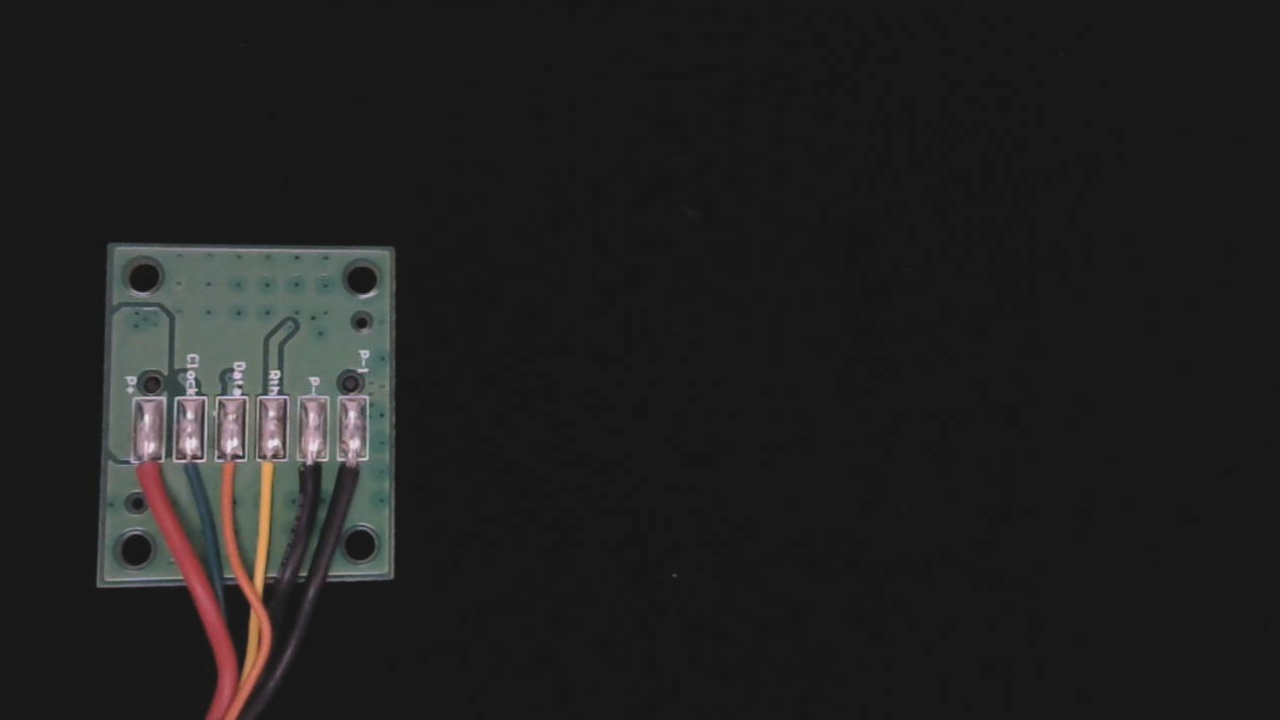Black: (303, 442, 336, 506)
Black1: (346, 439, 381, 508)
Green: (175, 440, 213, 512)
Orange: (217, 440, 253, 514)
Red: (130, 442, 166, 515)
Yellow: (258, 443, 295, 520)
